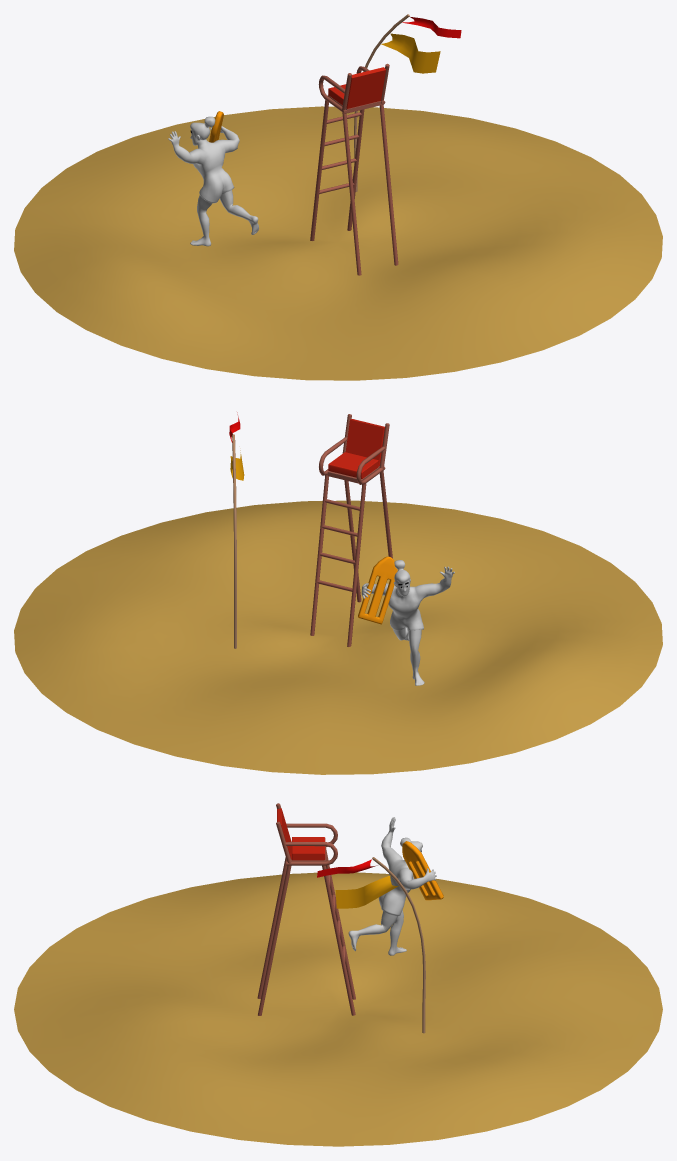
The model's file is Malibu_Lifeguard.fbx.
3 renders of one model, top to bottom at view 1: azimuth 30°, elevation 25°; view 2: azimuth 150°, elevation 25°; view 3: azimuth 270°, elevation 25°, orthographic.
Parts seen in each view (by area): view 1: ground, lifeguard_chair_geo, lifeguard_geo, flag1; view 2: ground, lifeguard_chair_geo, lifeguard_geo, lifeguard_board_geo, flagpole; view 3: ground, lifeguard_chair_geo, lifeguard_geo, flag1, lifeguard_board_geo, flagpole.
Part boxes in pixels (x1,y1,x2,y2): ground: (14,106,662,380); lifeguard_chair_geo: (310,63,398,275); lifeguard_geo: (168,116,258,246); flag1: (381,33,440,73); ground: (14,500,662,774); lifeguard_chair_geo: (310,414,392,646); lifeguard_geo: (361,560,454,685); lifeguard_board_geo: (358,556,397,624); flagpole: (232,434,236,648); ground: (14,872,662,1146); lifeguard_chair_geo: (257,803,355,1015); lifeguard_geo: (348,817,436,955); flag1: (335,875,398,908); lifeguard_board_geo: (402,841,443,900); flagpole: (372,857,425,1033).
Bounding box in the file's own units: 7.9 × 7.9 × 2.65.
